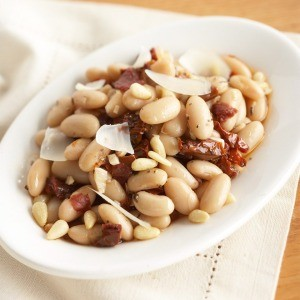beans_brain food: (147, 162, 221, 213), (54, 89, 104, 159), (132, 95, 218, 135)
